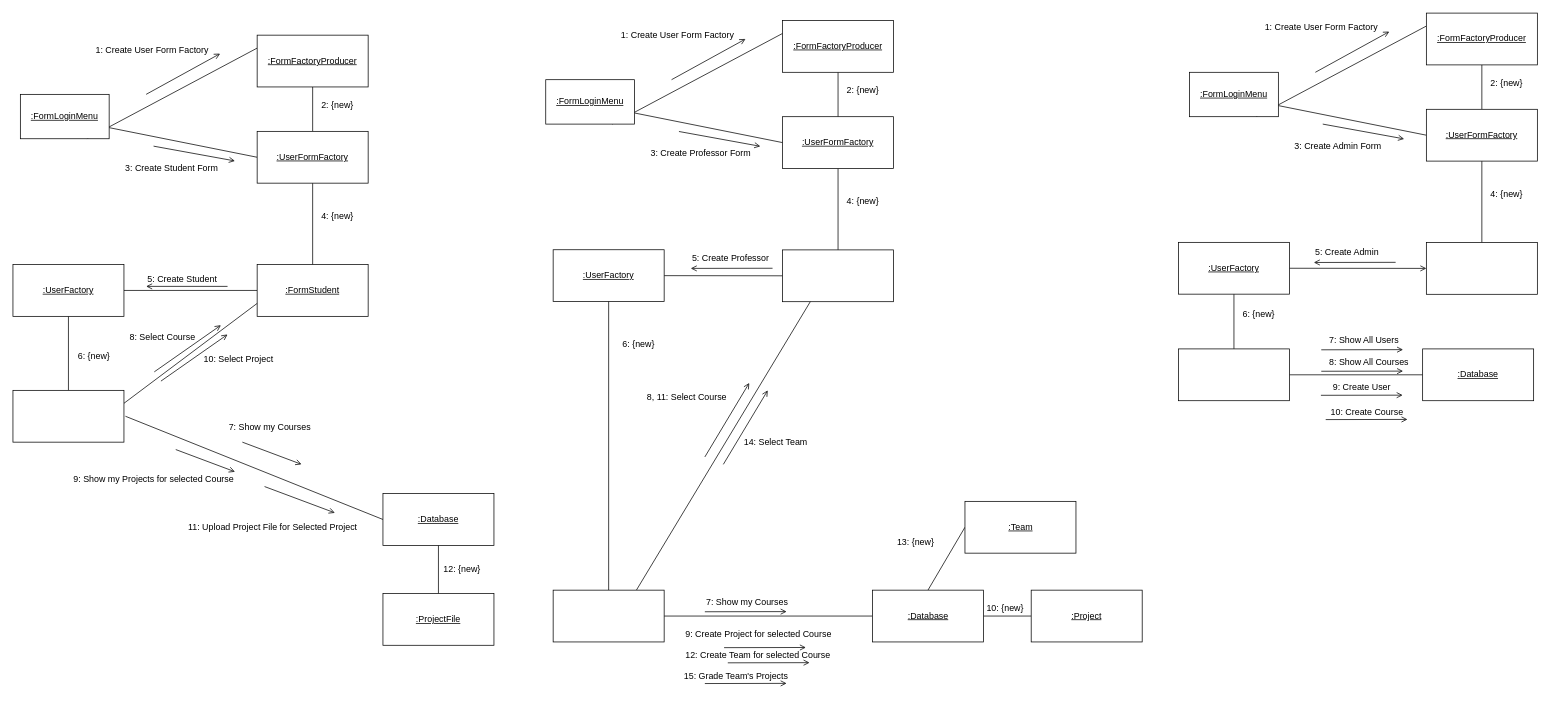
The diagram is 1550 pixels wide and 702 high, and some of its shapes have lost their labels. Each missing label, with the centre of its shape:
:Admin: pixel 1233 374
:FormAdmin: pixel 1481 268
:FormProfessor: pixel 838 275
:Professor: pixel 608 615
:Student: pixel 68 416
